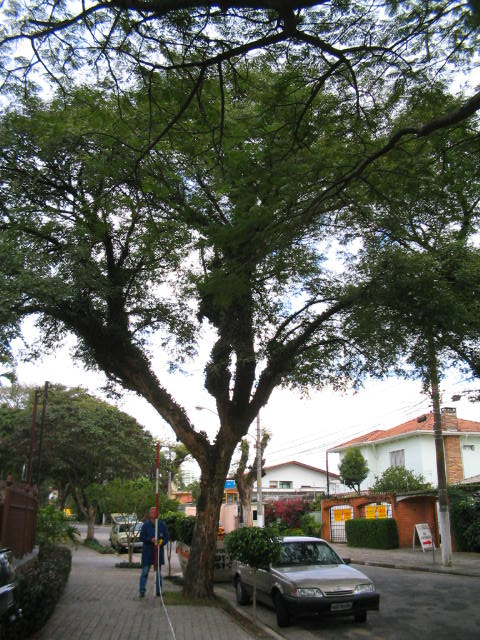crown: (3, 49, 477, 398)
stem: (177, 451, 234, 599)
stick: (145, 441, 166, 595)
tree: (1, 47, 478, 601), (237, 426, 275, 527)
